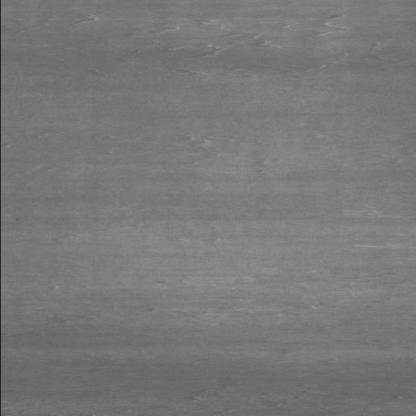silk_spot: (150, 15, 361, 72), (170, 128, 249, 164)
